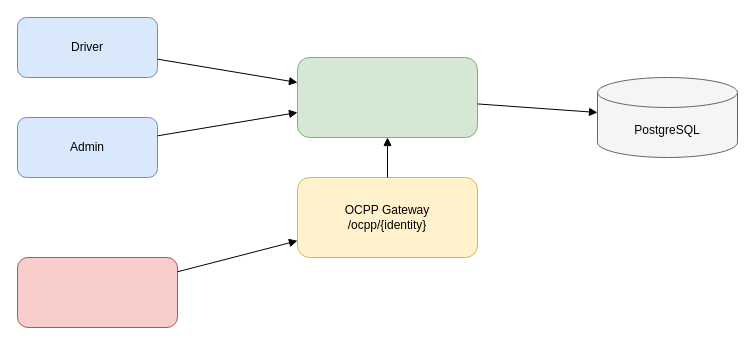
Image size: 755x345. Some labels were removed from this diagram. The centre of each missing label's shape, as x and y in pixels:
"API NestJS REST + realtime" goes at (x=387, y=97).
"Carregador físico OCPP 1.6J" goes at (x=97, y=292).
